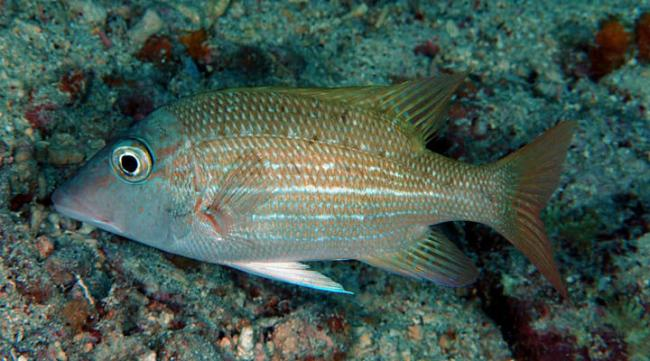fish: (52, 71, 576, 300)
